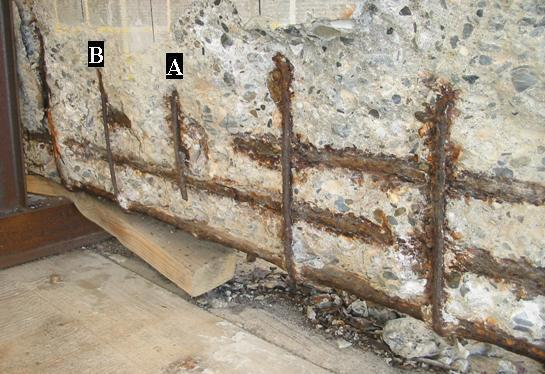Exposed reinforcement: (71, 178, 433, 322), (62, 136, 394, 246), (233, 132, 545, 206), (413, 82, 459, 338), (265, 52, 296, 283), (33, 27, 75, 193), (447, 247, 545, 296), (455, 317, 545, 365), (95, 68, 119, 196), (172, 90, 189, 203), (24, 131, 55, 145)
Spalling: (10, 1, 545, 374)
